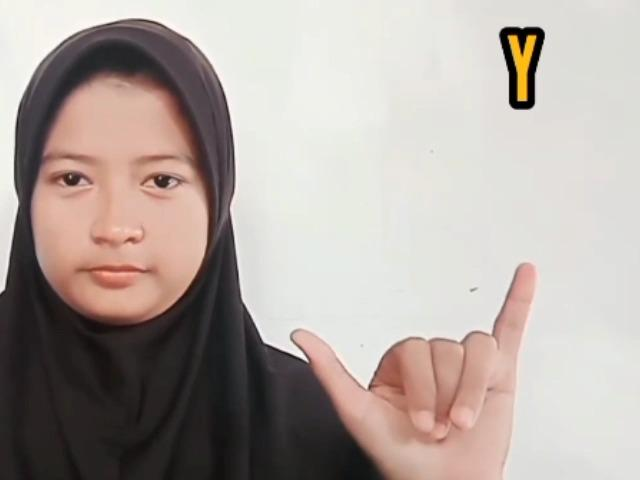Y: (284, 256, 564, 480)
